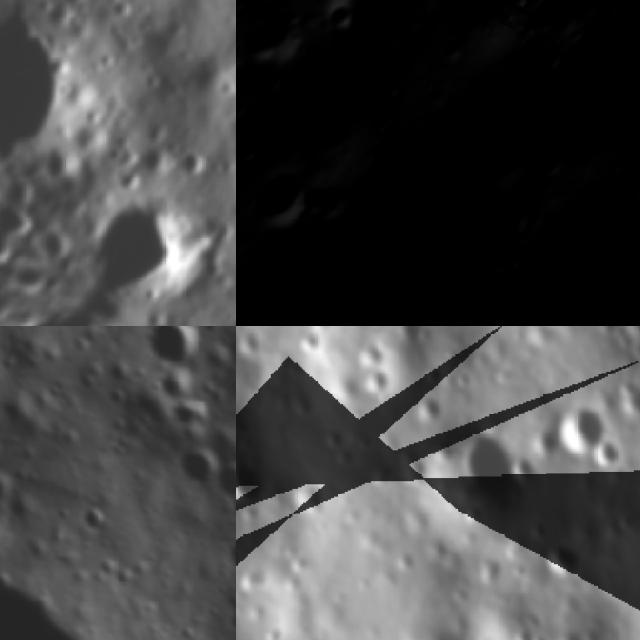crater: (0, 0, 109, 200), (74, 185, 223, 326), (274, 72, 368, 170), (445, 107, 541, 193), (239, 153, 321, 241), (451, 425, 522, 523), (238, 3, 303, 74), (441, 178, 500, 247), (552, 394, 606, 460), (313, 0, 376, 48), (150, 326, 205, 372), (544, 535, 585, 581), (177, 444, 219, 488), (532, 36, 574, 77), (613, 377, 640, 431), (412, 388, 445, 427), (236, 458, 263, 503), (507, 450, 538, 488), (354, 336, 388, 370), (362, 366, 393, 398), (593, 441, 618, 474), (81, 501, 102, 536), (218, 460, 236, 494), (0, 466, 14, 505), (223, 536, 236, 576), (503, 0, 543, 11), (621, 326, 640, 344), (0, 566, 13, 591), (227, 491, 236, 525)
